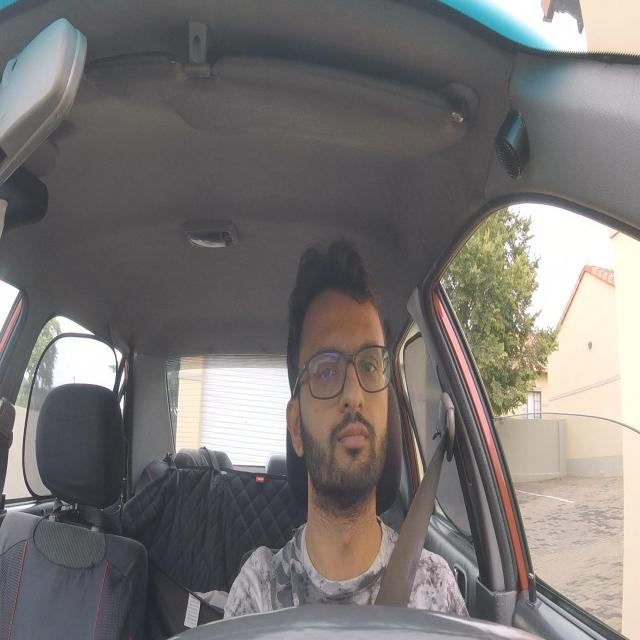open: (312, 340, 342, 394), (356, 341, 384, 393)
